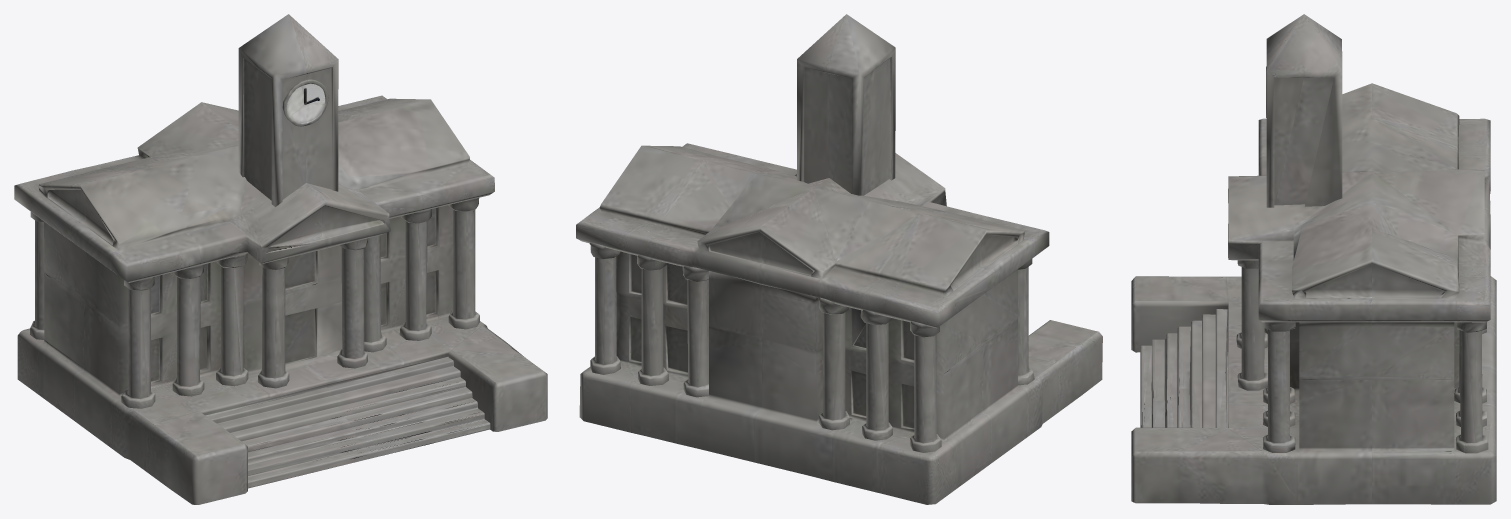
Rendered from 34-town-hall.glb.
3 views of the same model, side by side, from view 1: azimuth 30°, elevation 25°; view 2: azimuth 150°, elevation 25°; view 3: azimuth 270°, elevation 25° (orthographic). The views are drawn at different scales.
Parts seen in each view (by area): view 1: geometry_0; view 2: geometry_0; view 3: geometry_0.
Boxes of the visible parts, x1=… form: geometry_0: x1=14, y1=14, x2=547, y2=504; geometry_0: x1=576, y1=14, x2=1102, y2=504; geometry_0: x1=1131, y1=14, x2=1496, y2=504.
Size of the model in its own units: 0.9454 by 0.9512 by 0.7866.
Materials: 1 (1 with a texture image).
